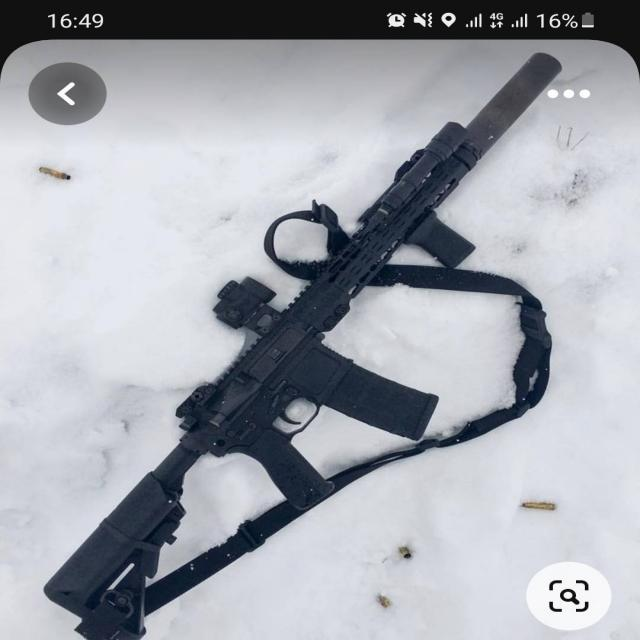m16: (148, 150, 575, 480)
